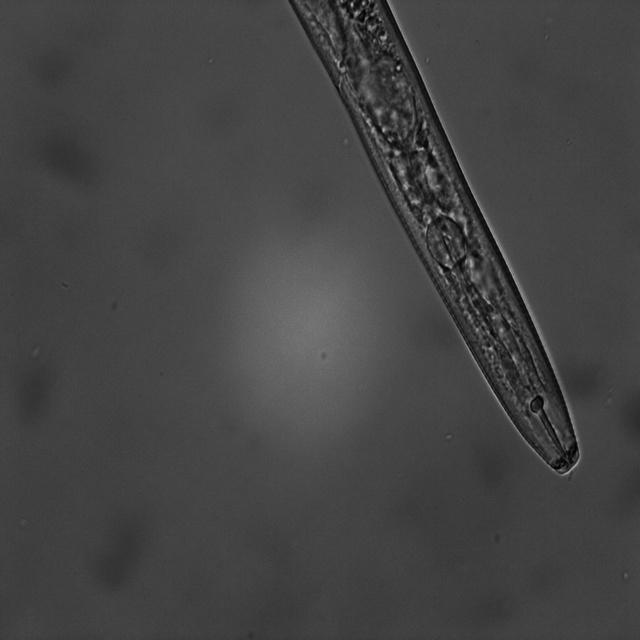Pratylenchus: (248, 0, 592, 480)
